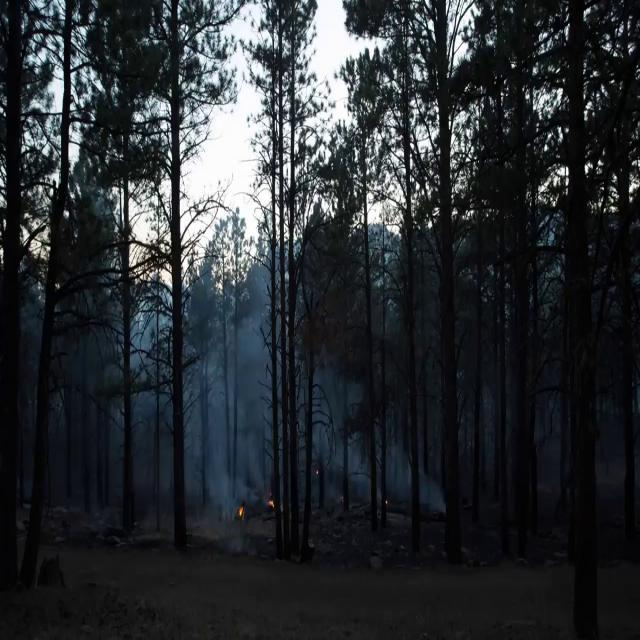Fire: (236, 503, 244, 518), (268, 498, 274, 510)
Smoke: (173, 244, 447, 544), (308, 313, 458, 521), (382, 414, 448, 508)
